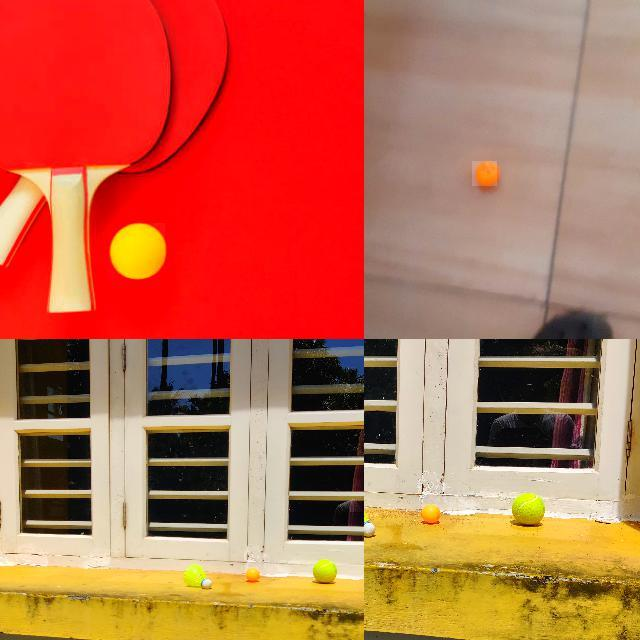ping-pong-ball: (108, 223, 166, 279), (472, 161, 498, 187), (422, 504, 438, 524), (245, 567, 259, 581)
